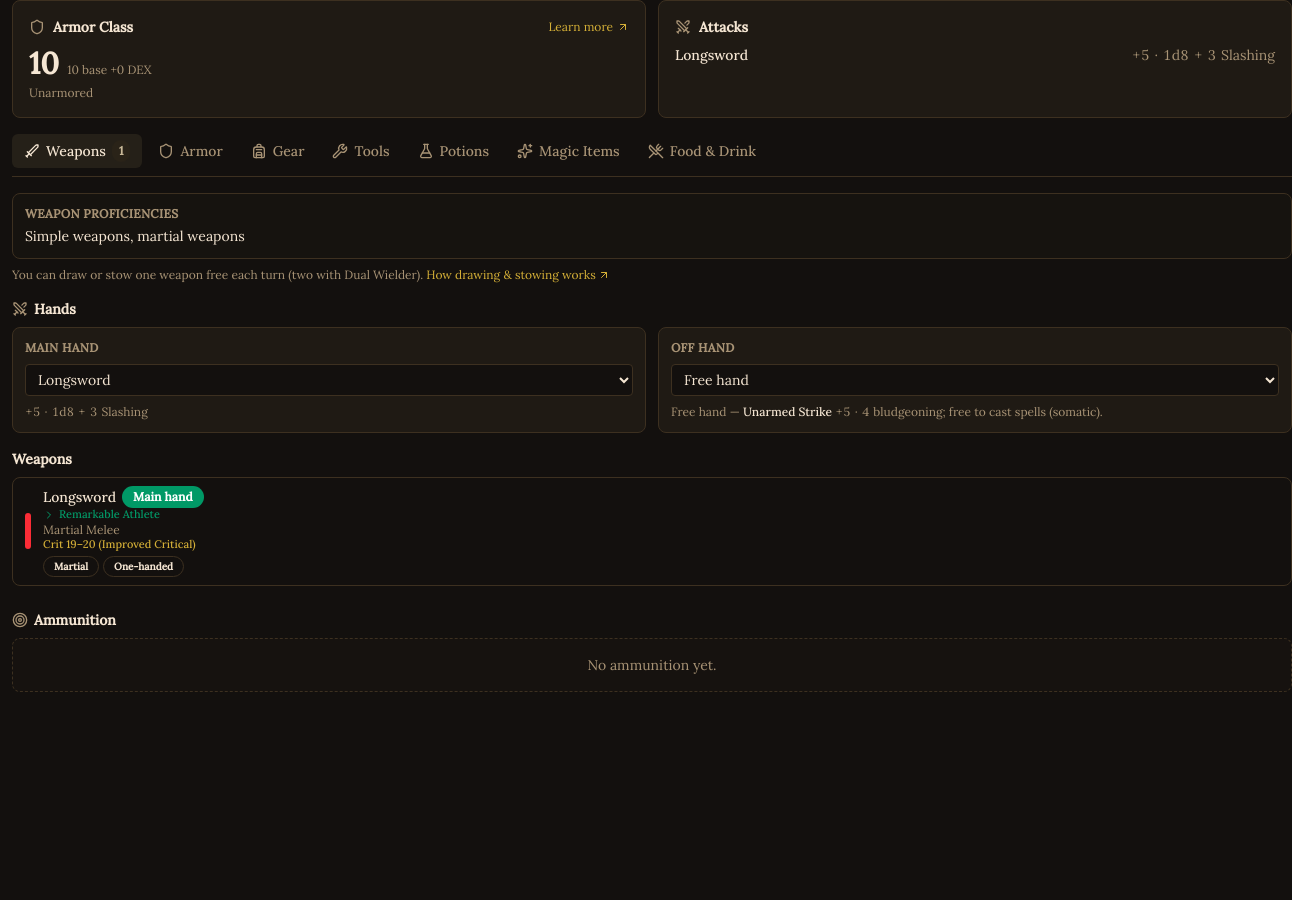
Scenario: InventoryTab › shows the 2024 Champion Remarkable Athlete post-crit move note on weapon rows
Click the button with test id "remarkable-move-w1" at (101, 515), box [43,508,160,522]
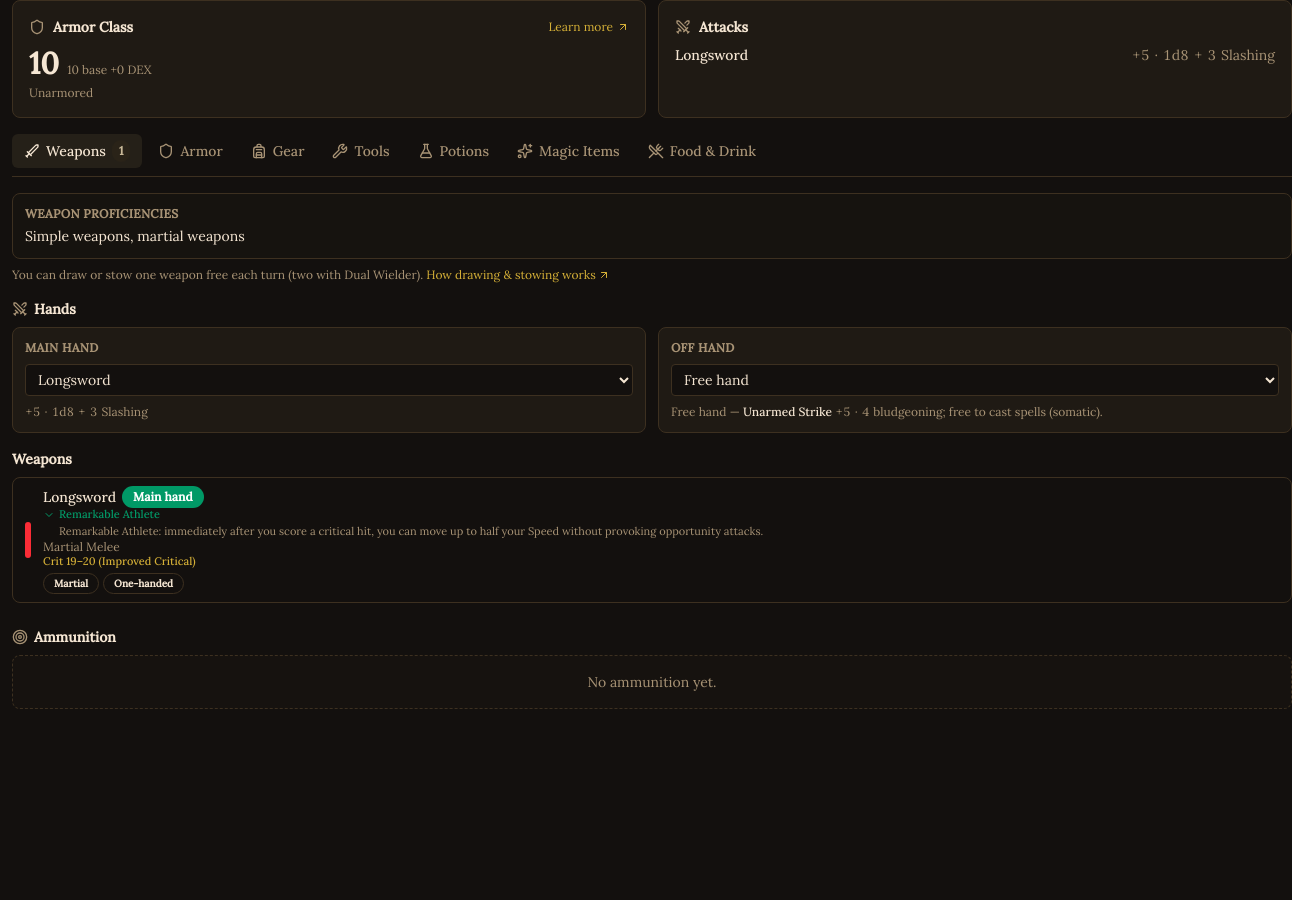
Result: the text with test id "remarkable-move-w1-text" shows "half your Speed" at [59,524,763,538]
